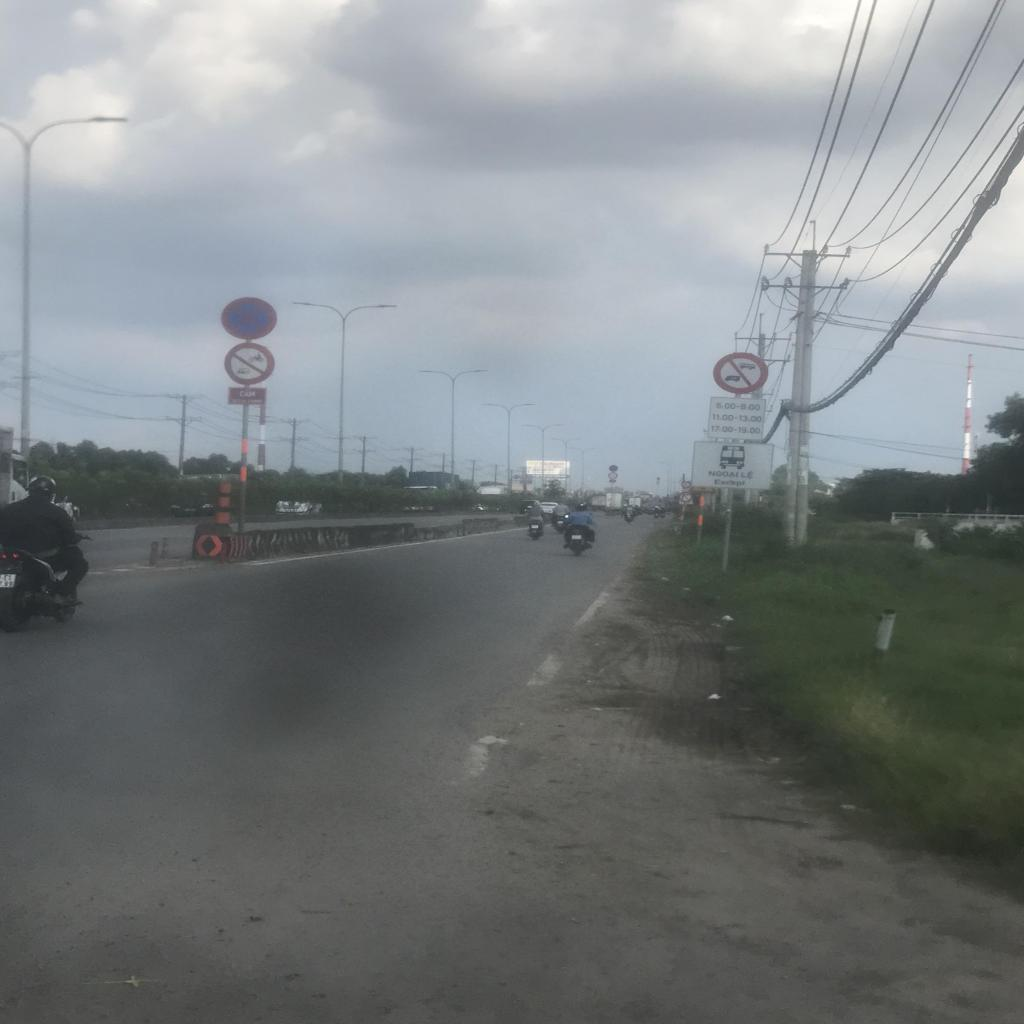cam_dung_xe_va_do_xe: (221, 298, 278, 340)
cam_o_to_tai_va_xe_khach: (712, 352, 768, 394)
cam_re_phai: (677, 491, 694, 502)
cam_xe_2_banh_va_xe_3_banh_co_dong_co: (222, 342, 275, 384)
khac: (691, 442, 774, 490), (708, 397, 765, 440)
